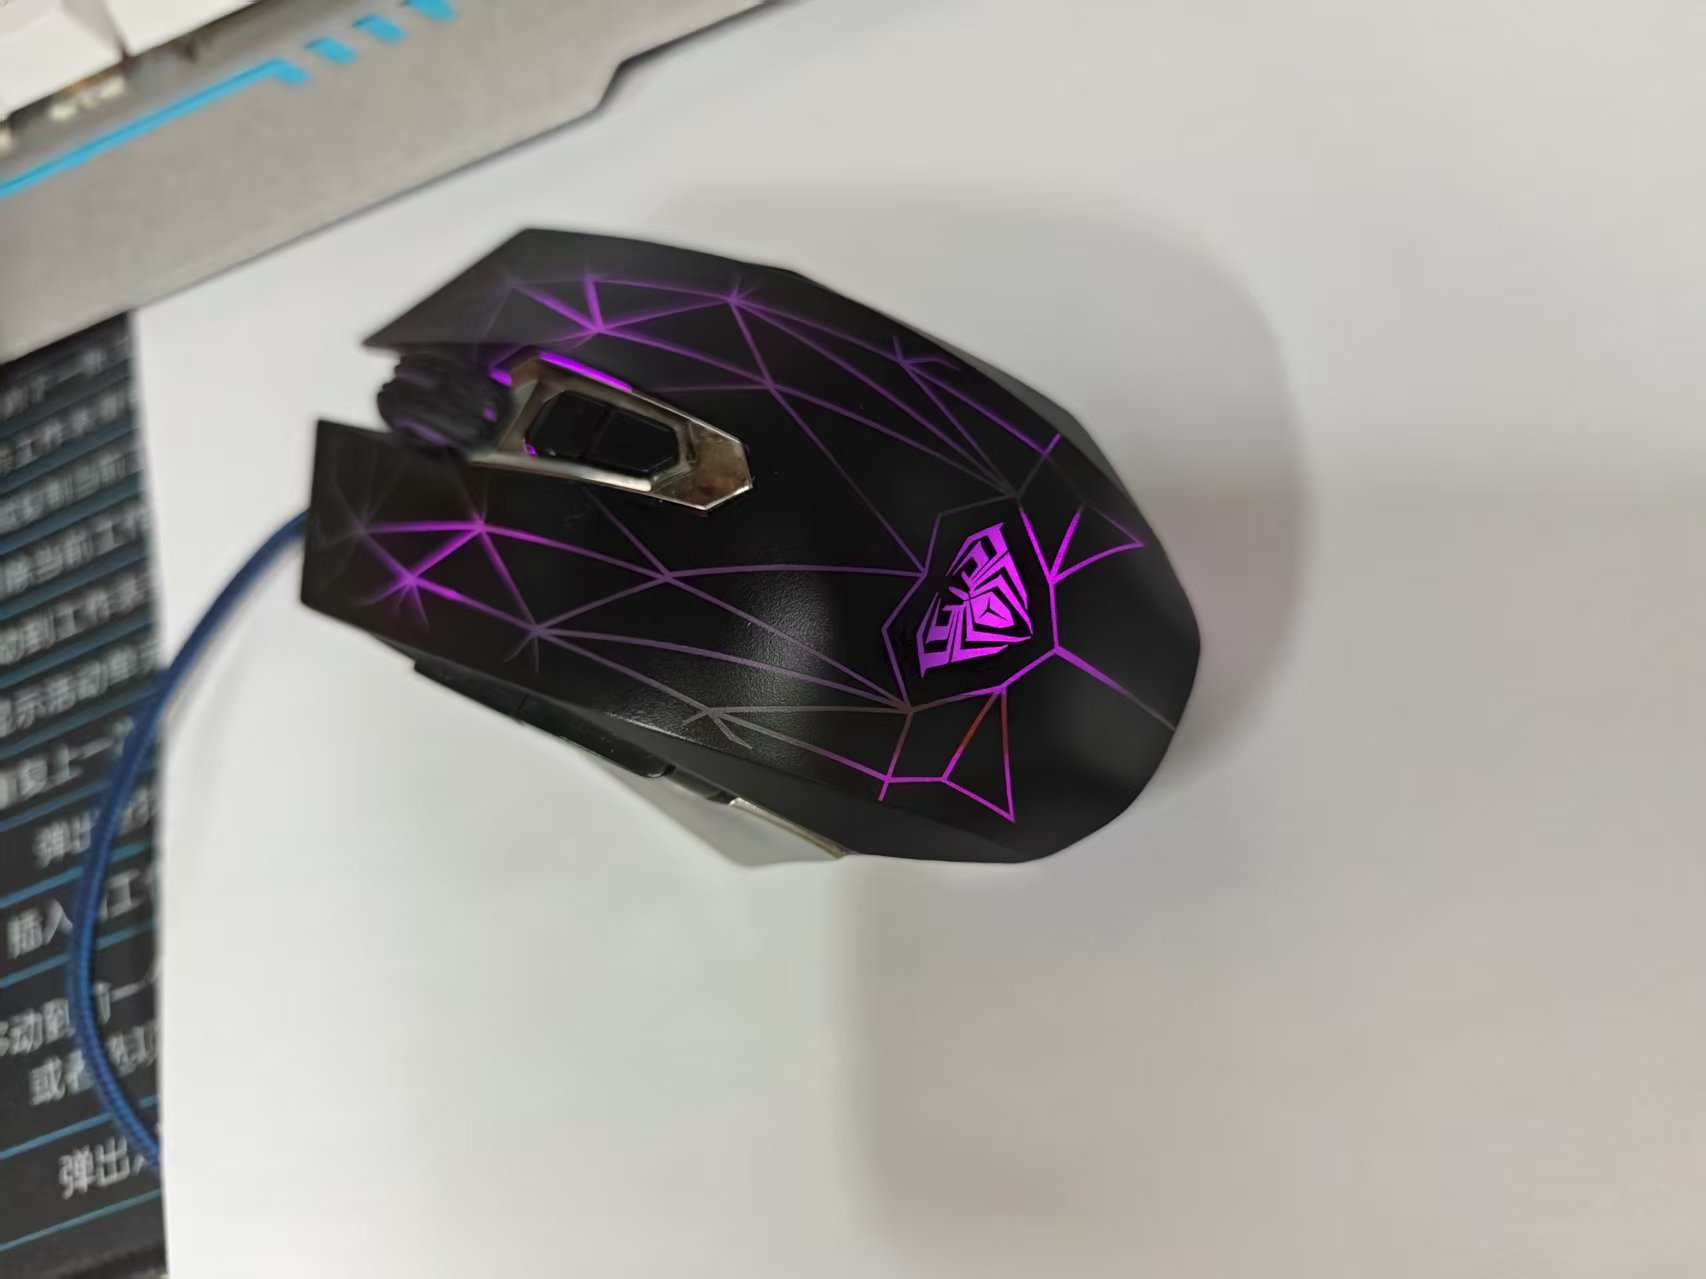mouse: (232, 211, 1267, 895)
